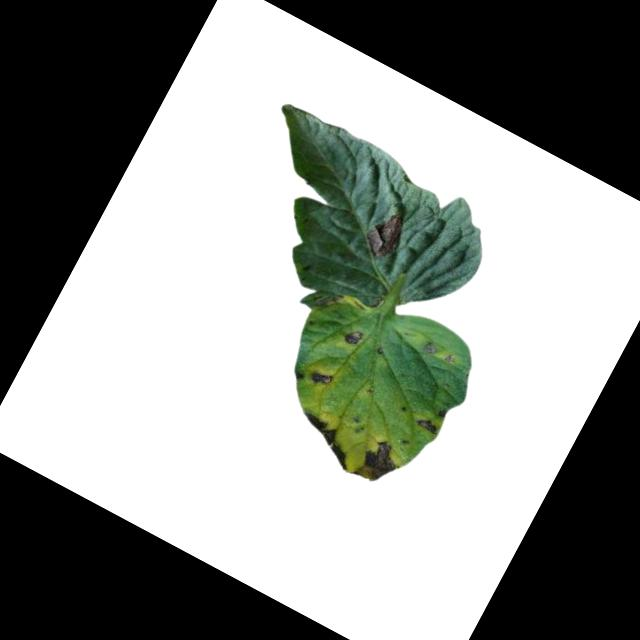Early_blight: (289, 408, 365, 471), (358, 204, 413, 265), (354, 434, 408, 491), (308, 364, 336, 391), (341, 325, 366, 350), (415, 413, 441, 435), (292, 368, 306, 382), (437, 405, 450, 420)
